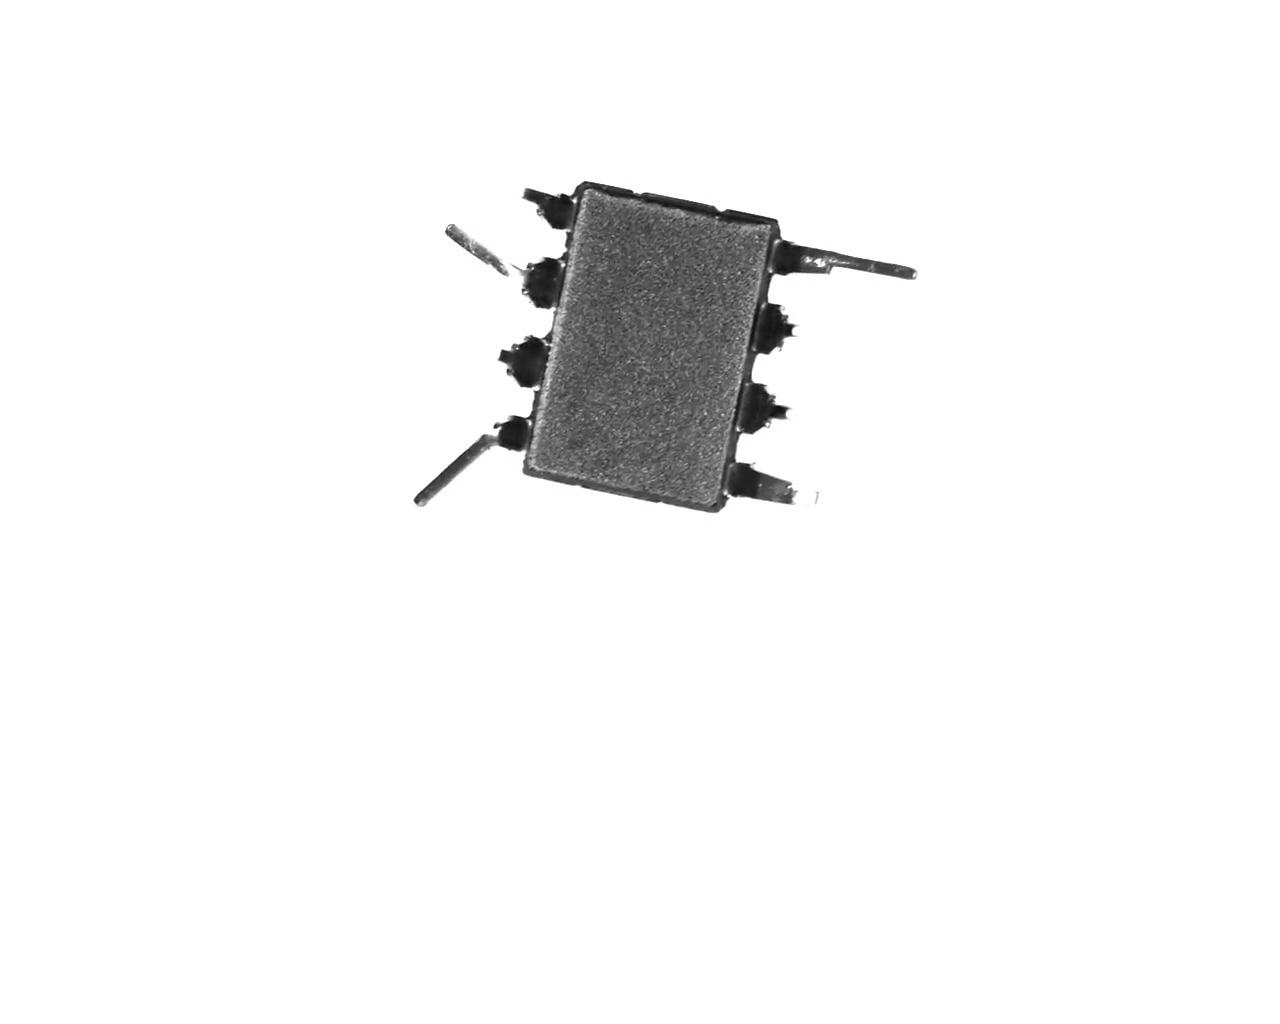Leg: (430, 218, 567, 311), (408, 414, 525, 517), (773, 227, 917, 293), (723, 451, 828, 518)
brokenLeg: (481, 326, 560, 393), (509, 180, 578, 237), (729, 377, 794, 437), (748, 296, 801, 363)
